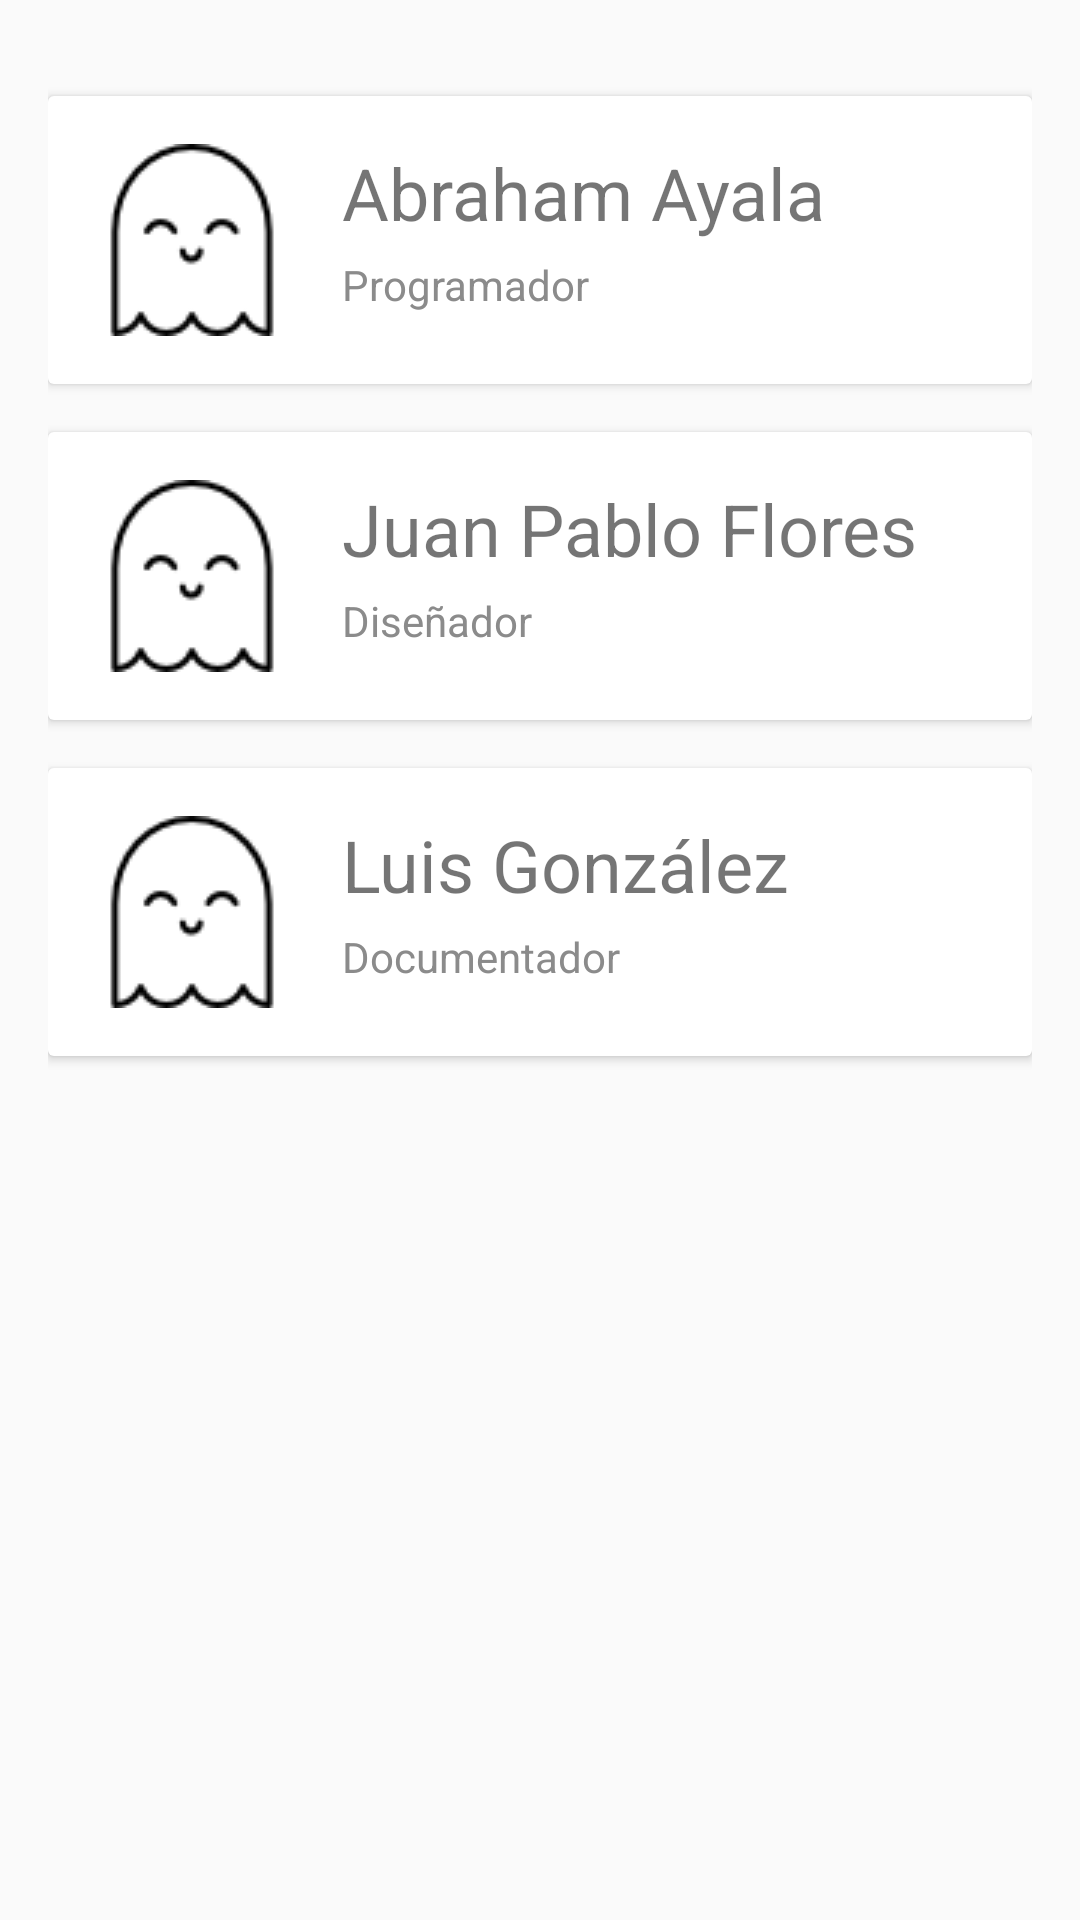

Icons on this 1080w x 1920h Android screen, each with its box as (x1, y1, x2, y2):
ghost: (110, 144, 274, 336), (110, 480, 274, 672), (110, 816, 274, 1008)
